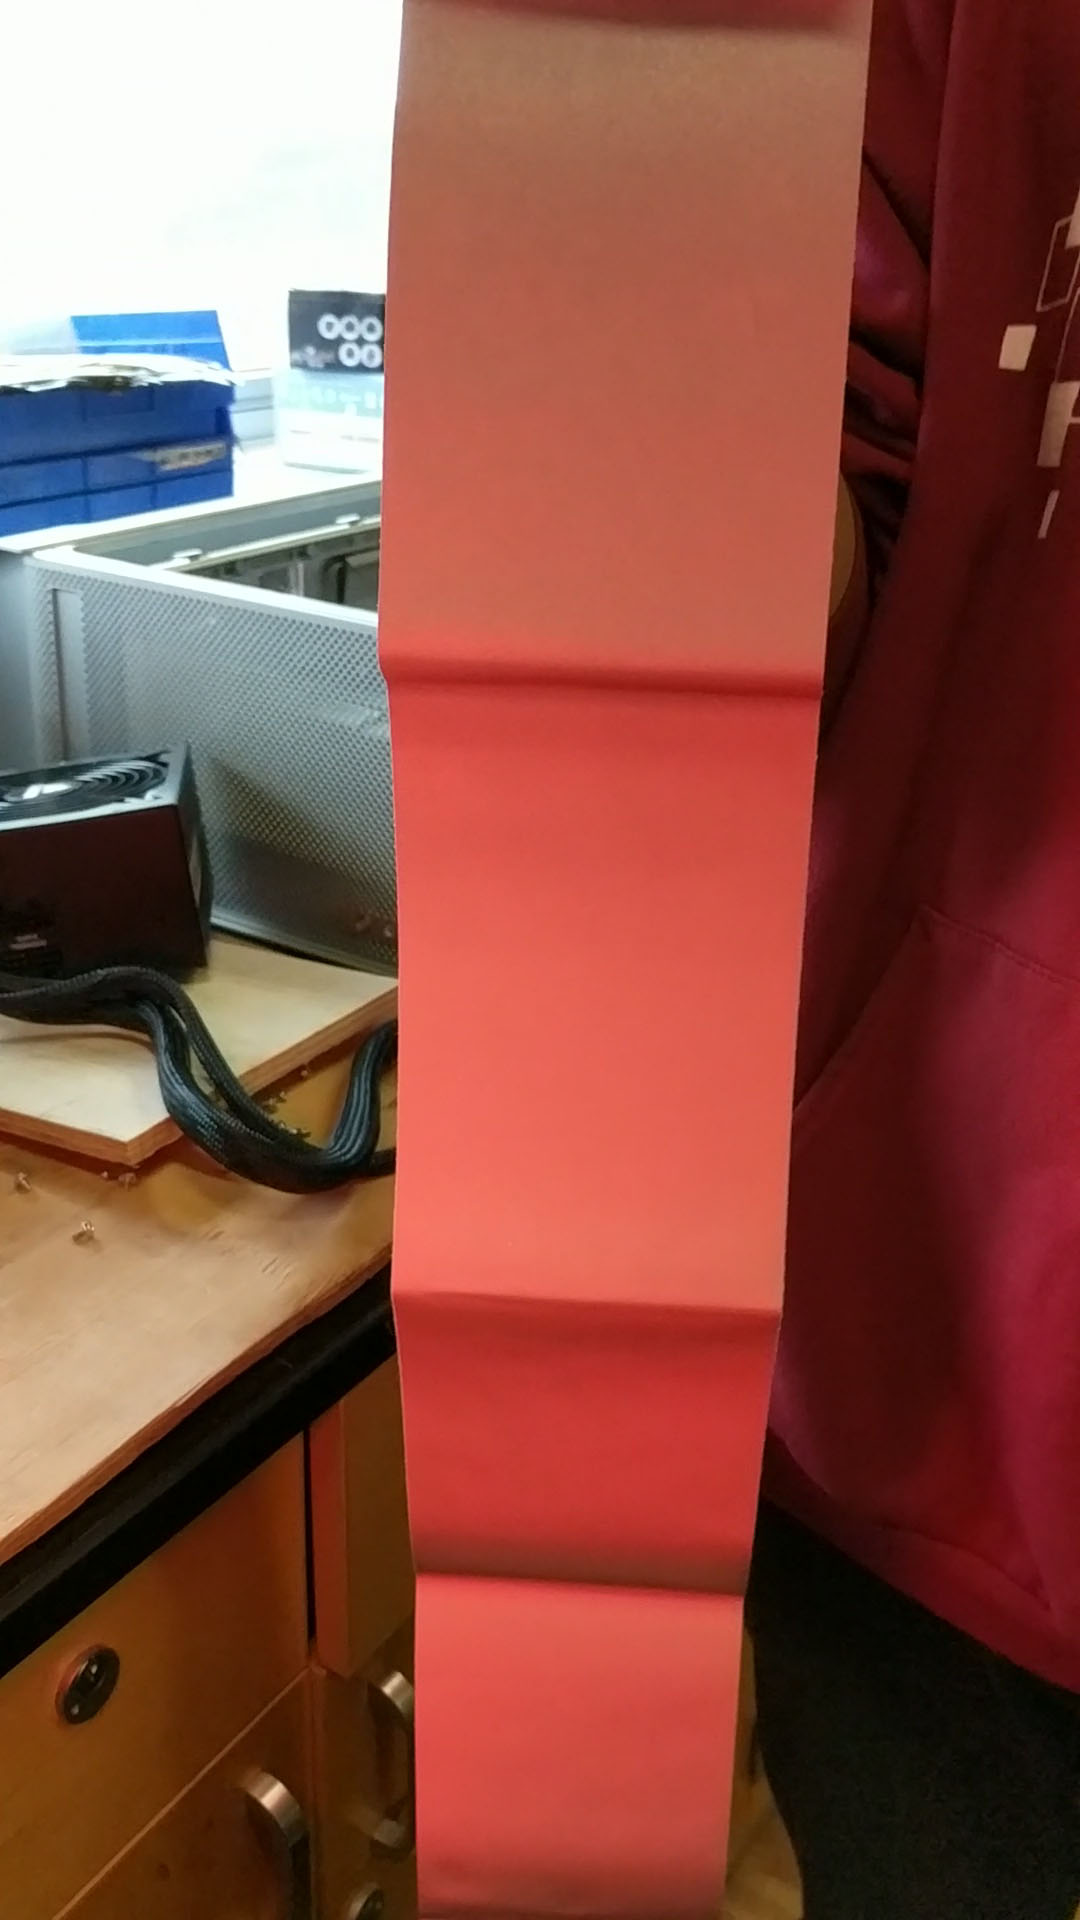gear: (376, 0, 872, 1920)
